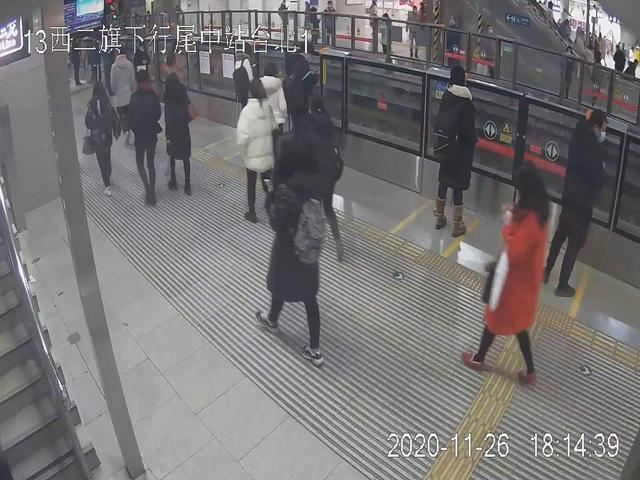person: (477, 155, 551, 393), (259, 132, 330, 366), (548, 98, 609, 306), (433, 63, 481, 243), (236, 79, 285, 228), (159, 72, 200, 193), (127, 73, 164, 205), (86, 79, 119, 203), (109, 45, 137, 148)
